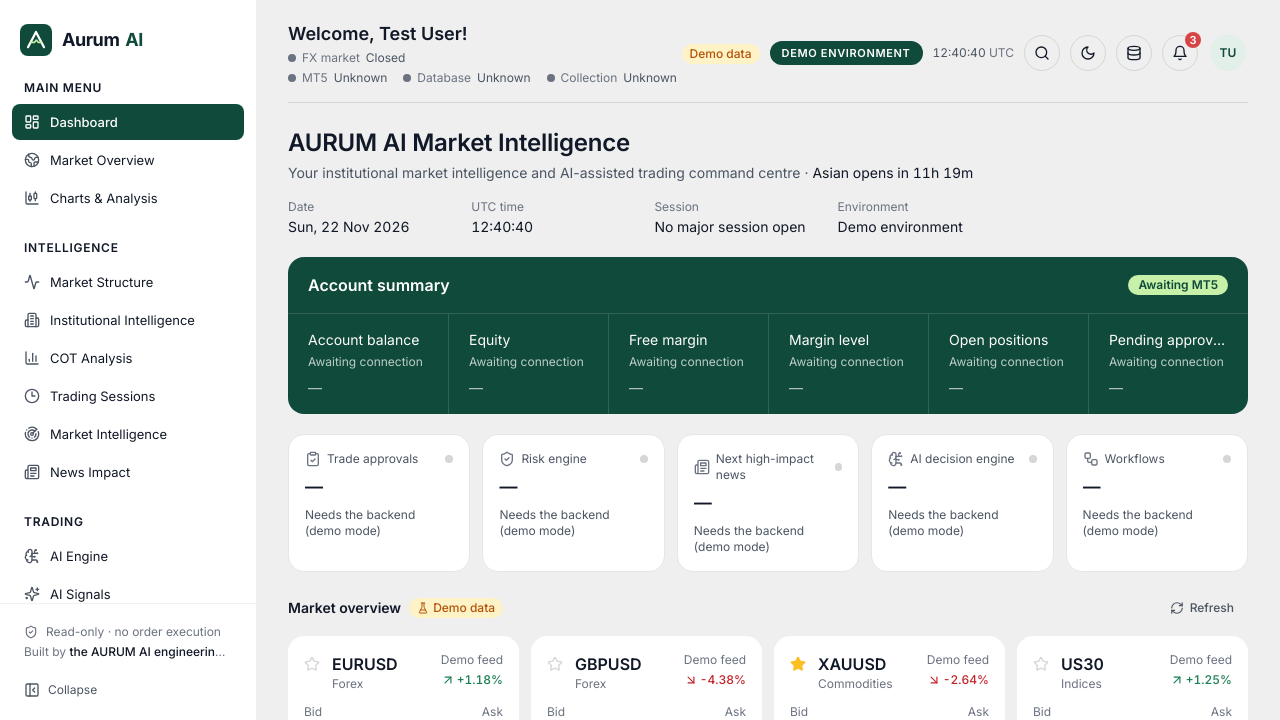
Scenario: keyboard shortcuts and credit › shows the Built by credit in the sidebar and the About tab
Click the link with test id "built-by".
click(128, 652)  # box [24, 644, 232, 660]
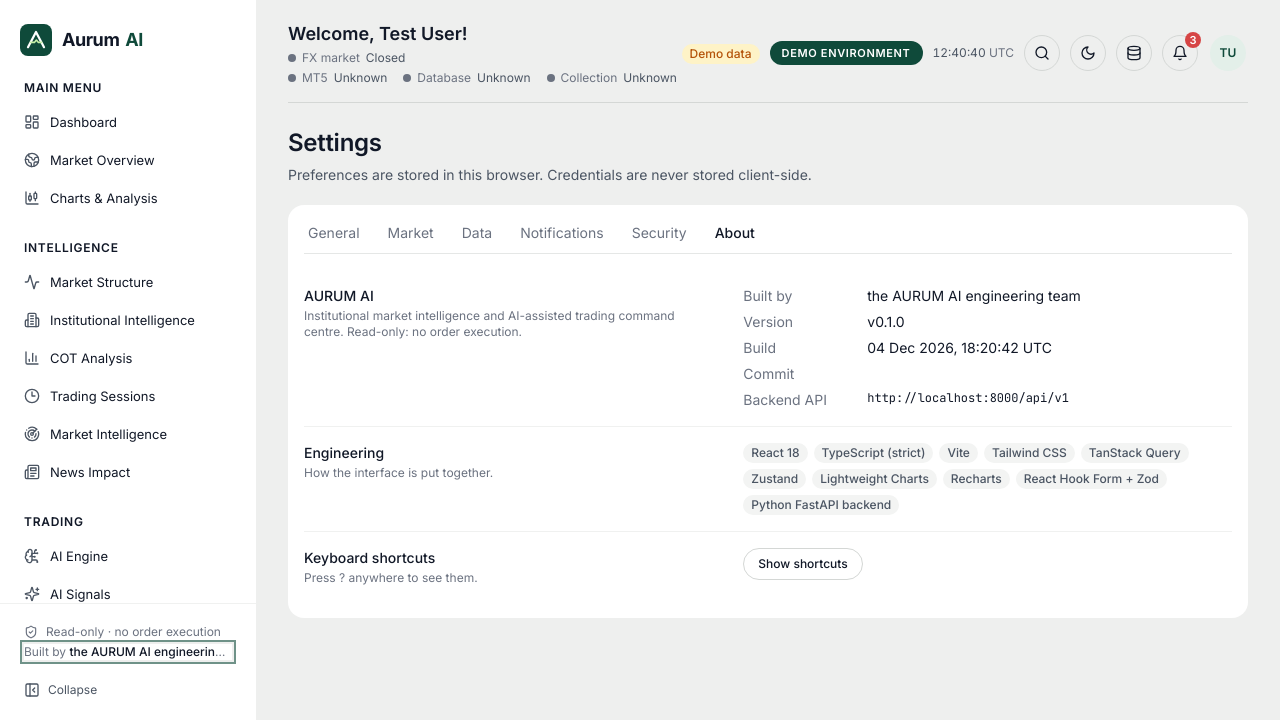
expect the text with test id "about-built-by" is shown: met, box [867, 286, 1081, 306]
expect the text "v0.1.0" is shown: met, box [867, 312, 905, 332]
